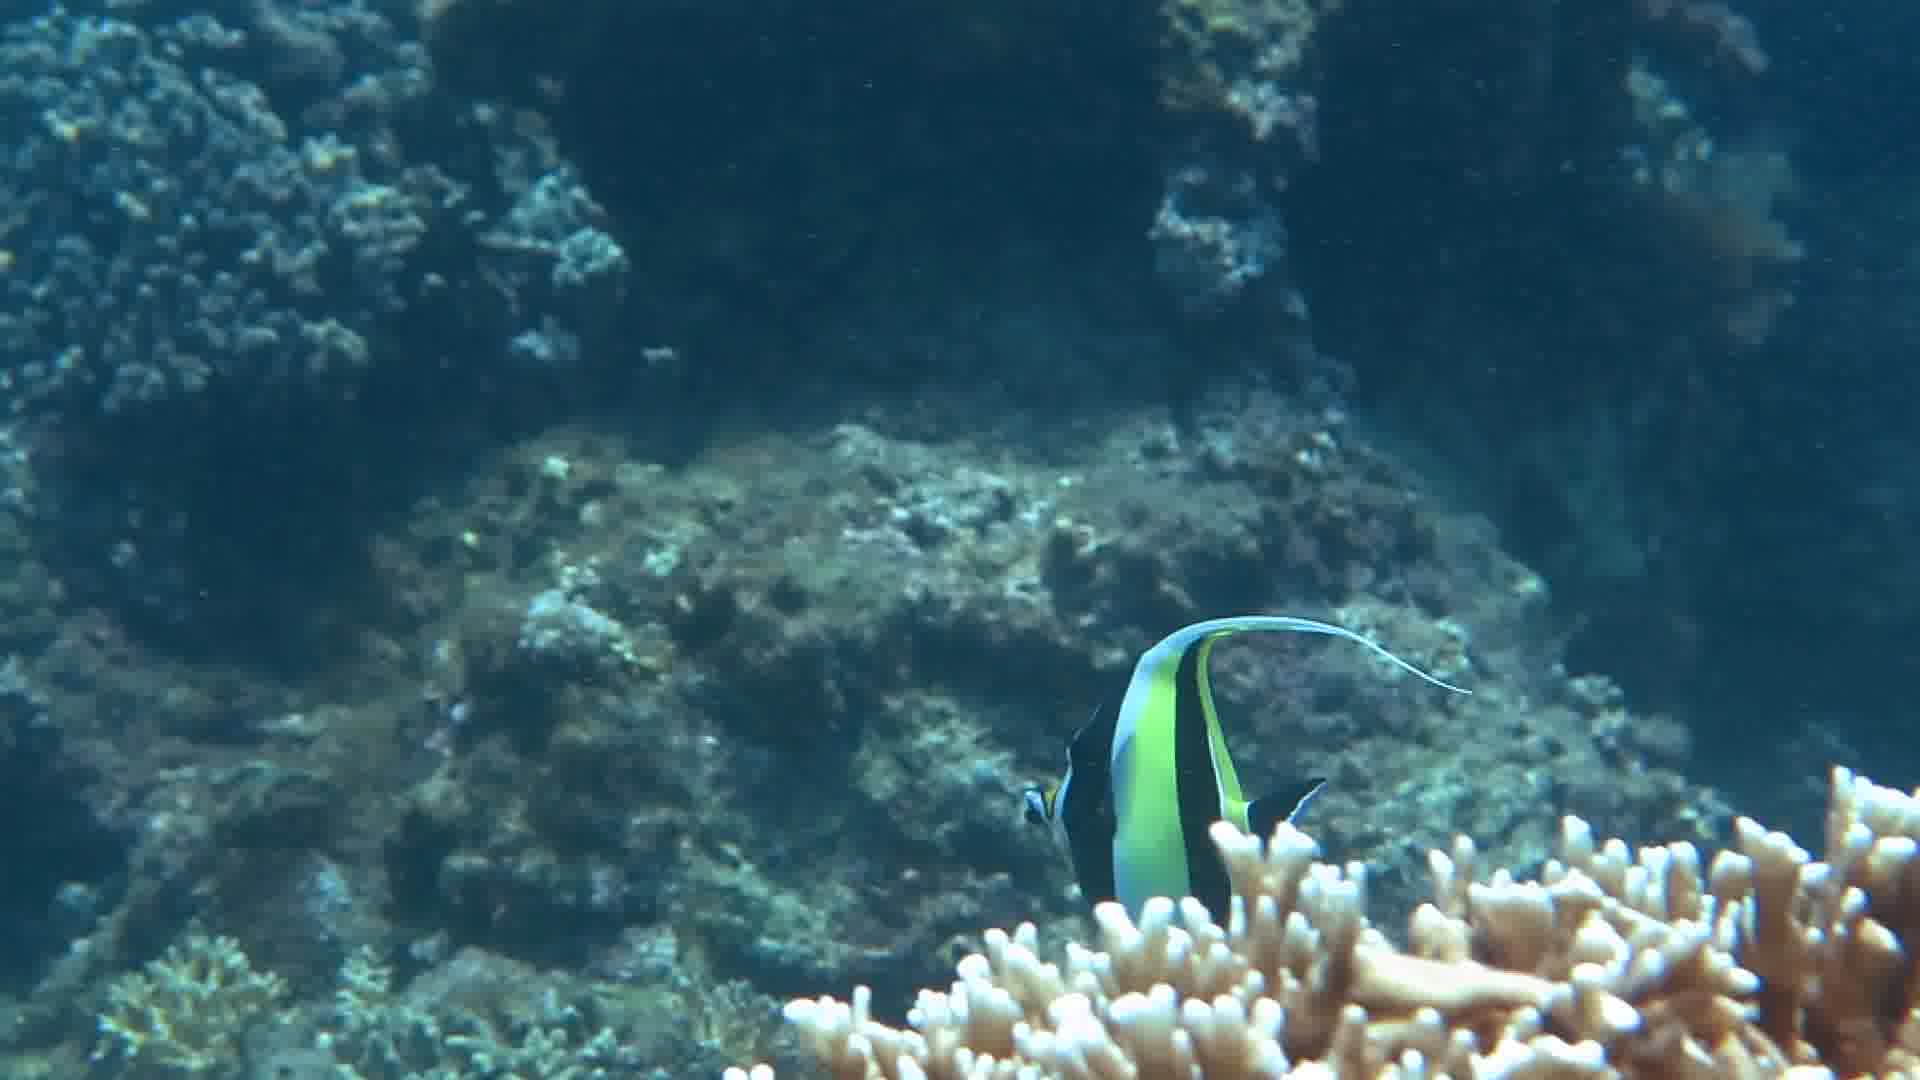Zanclus cornutus: (1006, 582, 1346, 1011)
